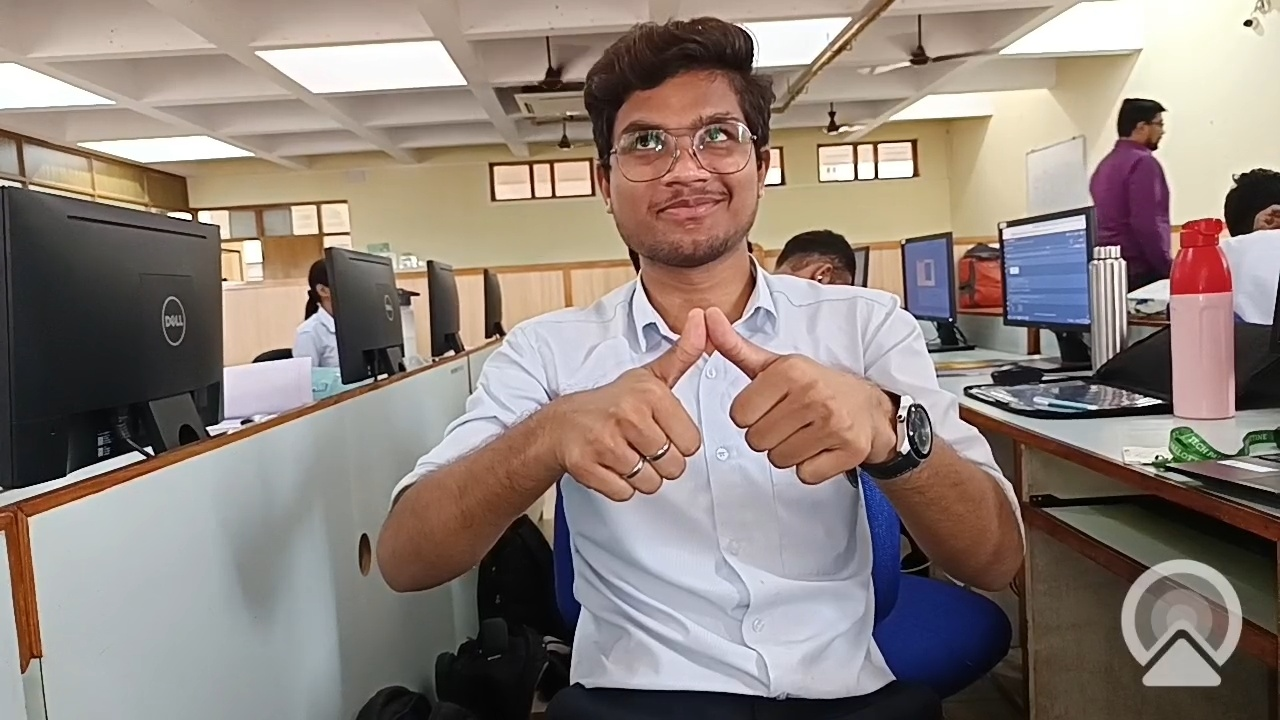A: (507, 280, 942, 524)
